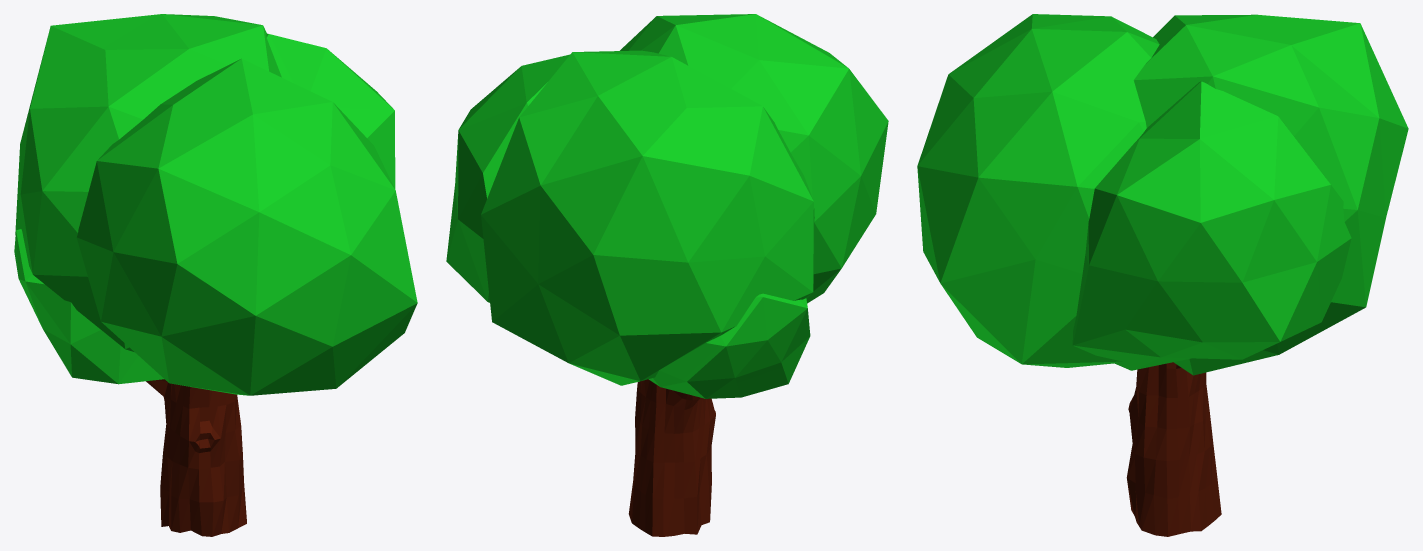
Rendered from tree.obj.
The picture shows the model from 3 angles, left to right: view 1: azimuth 30°, elevation 25°; view 2: azimuth 150°, elevation 25°; view 3: azimuth 270°, elevation 25°; orthographic projection. The views are drawn at different scales.
Parts seen in each view (by area): view 1: Icosphere, Cylinder; view 2: Icosphere, Cylinder; view 3: Icosphere, Cylinder.
Part boxes in pixels (bbox=[...]): Icosphere: bbox=[14, 14, 417, 395]; Cylinder: bbox=[146, 379, 246, 536]; Icosphere: bbox=[446, 14, 888, 398]; Cylinder: bbox=[628, 379, 715, 536]; Icosphere: bbox=[917, 14, 1408, 375]; Cylinder: bbox=[1126, 362, 1221, 536].
Bounding box in the file's own units: 16.5 × 21.82 × 19.57.
